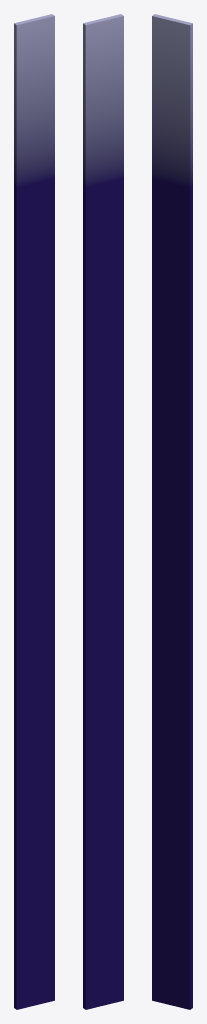
The model's file is wall1mx1m.fbx.
3 renders of one model, left to right at view 1: azimuth 30°, elevation 25°; view 2: azimuth 210°, elevation 25°; view 3: azimuth 330°, elevation 25°, orthographic.
Parts seen in each view (by area): view 1: wall1mx1m; view 2: wall1mx1m; view 3: wall1mx1m.
Part boxes in pixels (x1,y1,x2,y2): wall1mx1m: [14, 14, 54, 1009]; wall1mx1m: [83, 14, 123, 1009]; wall1mx1m: [152, 14, 192, 1009].
Bounding box in the file's own units: 400 × 9857 × 50.
